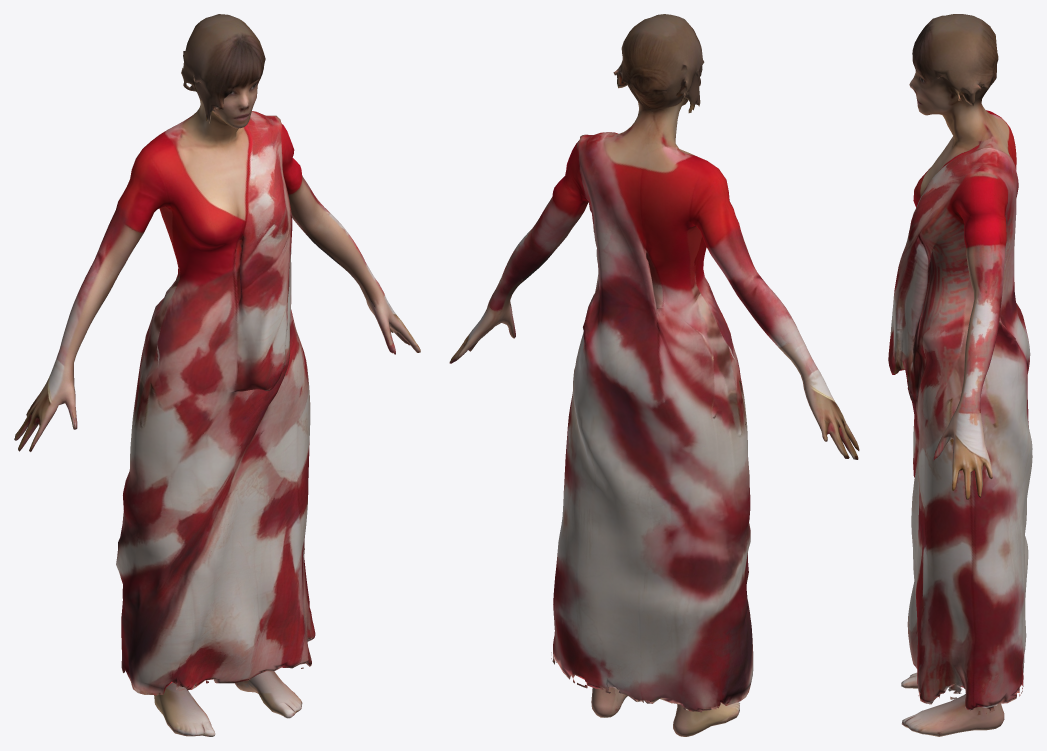
File: women_2.3-xf_cxj4ne5v.glb
The picture shows the model from 3 angles, left to right: view 1: azimuth 30°, elevation 25°; view 2: azimuth 150°, elevation 25°; view 3: azimuth 270°, elevation 25°; orthographic projection.
Parts seen in each view (by area): view 1: Object_4; view 2: Object_4; view 3: Object_4.
Part boxes in pixels (x1,y1,x2,y2): Object_4: (14, 14, 420, 736); Object_4: (449, 14, 859, 736); Object_4: (888, 14, 1032, 736).
Bounding box in the file's own units: 1.22 × 2 × 0.3778.
Materials: 1 (1 with a texture image).
